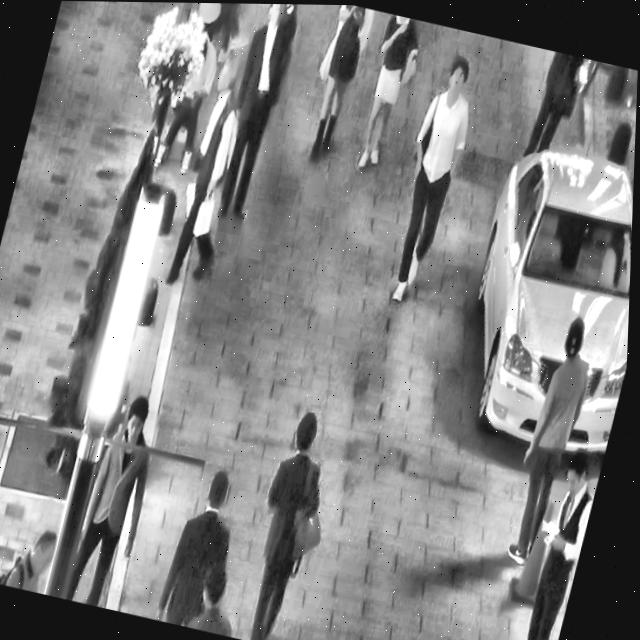light_vehicle: (435, 115, 637, 469)
